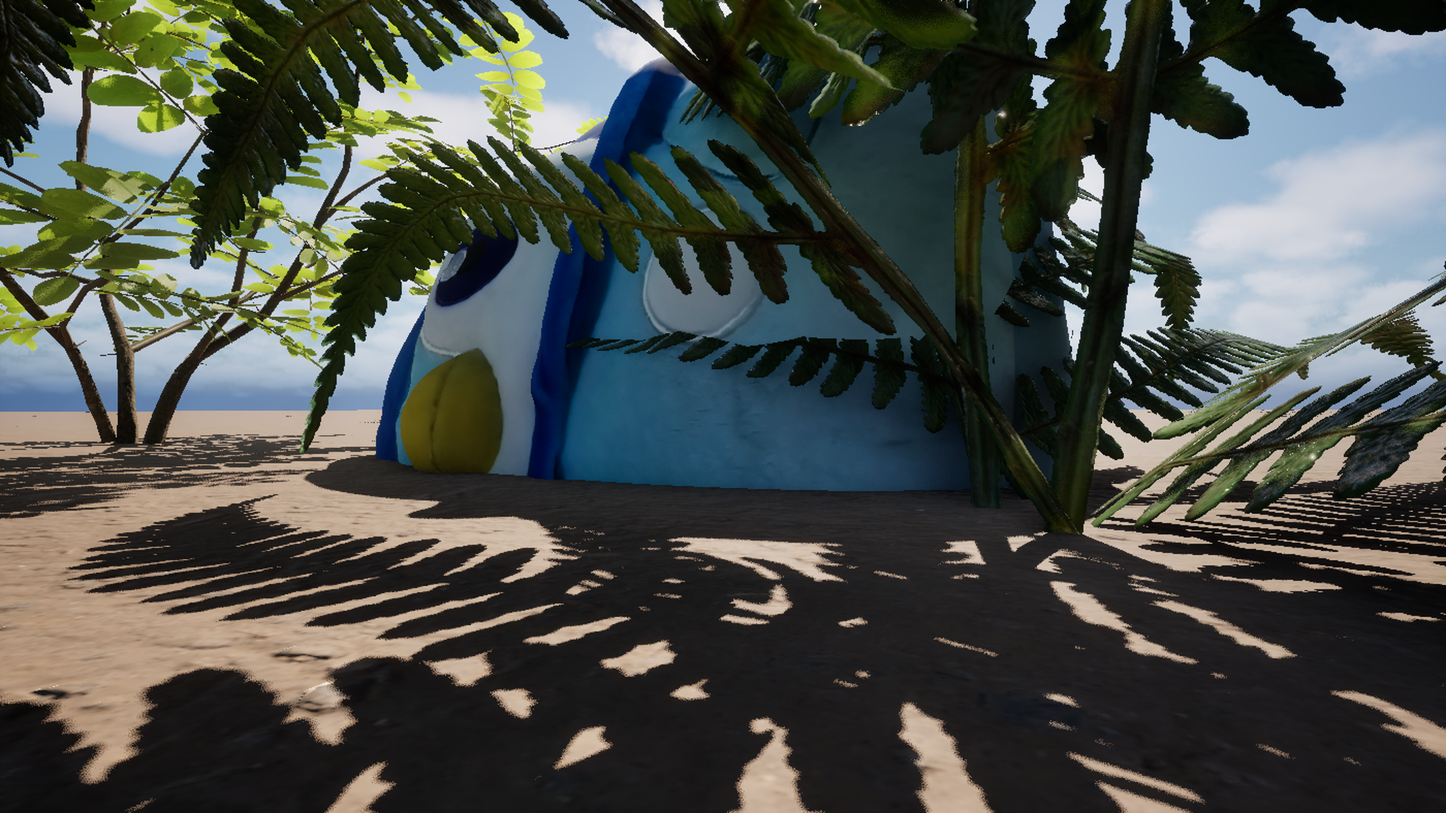Piplup: (223, 0, 1088, 813)
